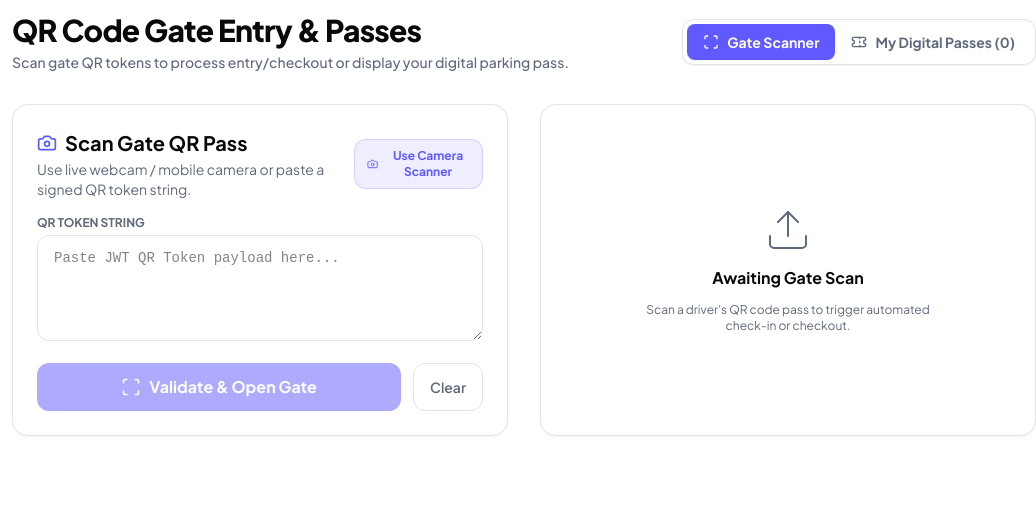
Test: QrScannerPage Component › renders ALREADY COMPLETED badge formatted correctly
The image size is (1036, 517).
Type "eyJhbGciOiJIUzI1NiIsInR5cCI6IkpXVCJ9.completed-token" into the text box with placeholder "Paste JWT QR Token payload here...". click: (260, 288)
box: [37, 235, 483, 341]
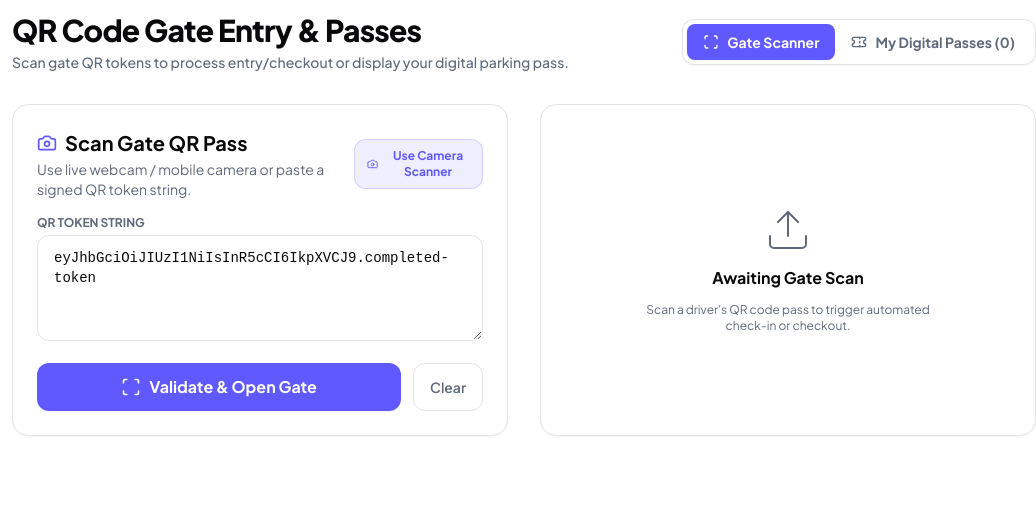
Click the button "Validate & Open Gate". click: (219, 387)
box: [37, 363, 401, 411]
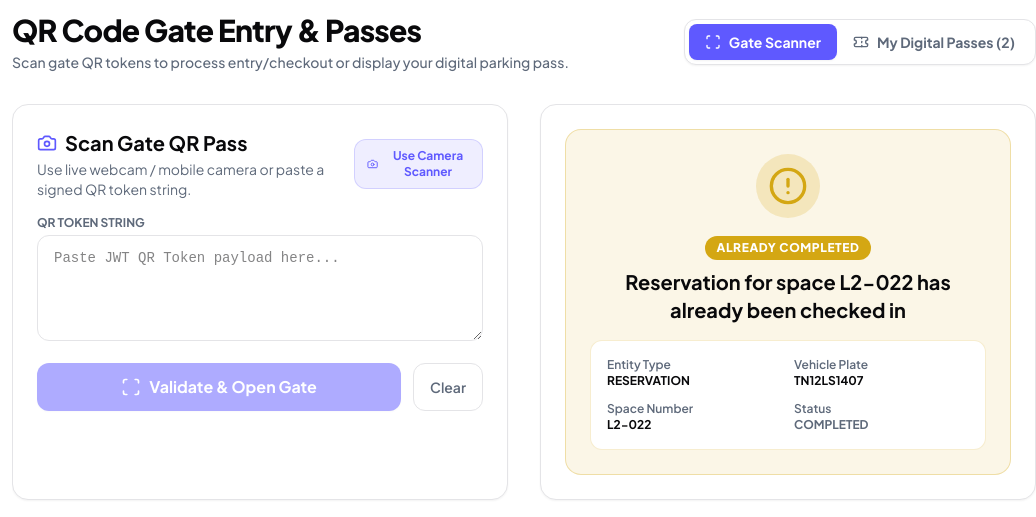
Expected: the text "ALREADY COMPLETED" is shown, [705, 236, 872, 260]
Expected: the heading "Reservation for space L2-022 has already been checked in" is shown, [625, 269, 951, 322]
